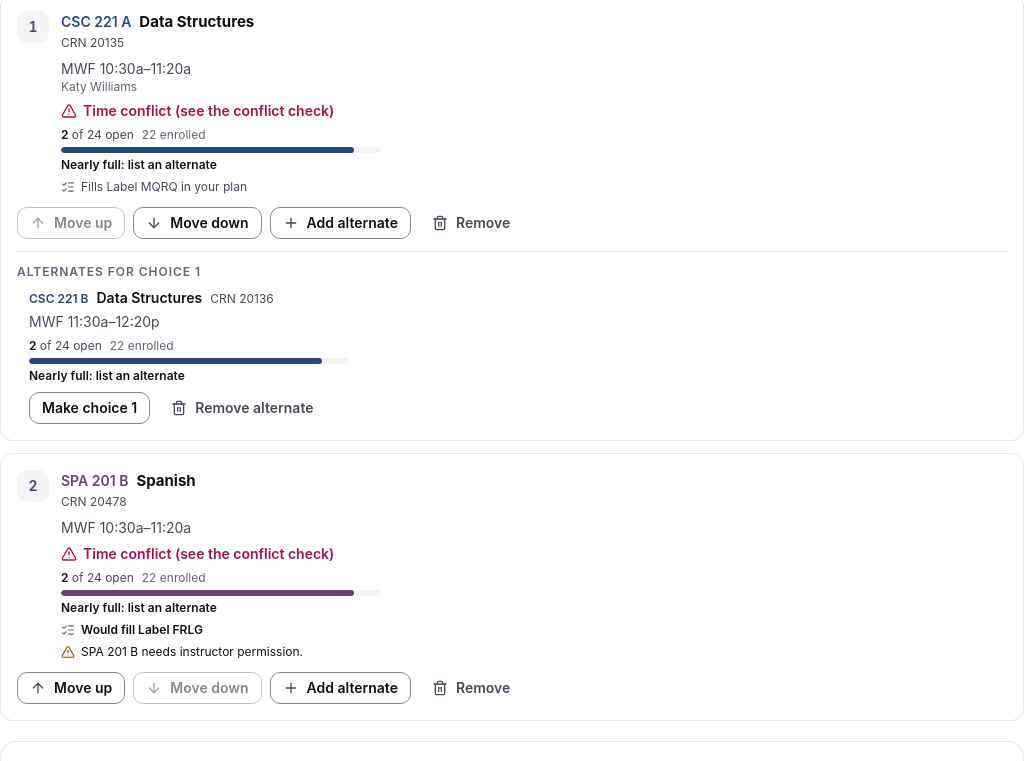
Test case: WebTreeEditor › 'Add alternate' targets that choice and focuses the search
Click the button named "Add alternate for SPA 201 B" at point(340, 688), box x1=270 y1=672 x2=411 y2=704
(page scrolled)
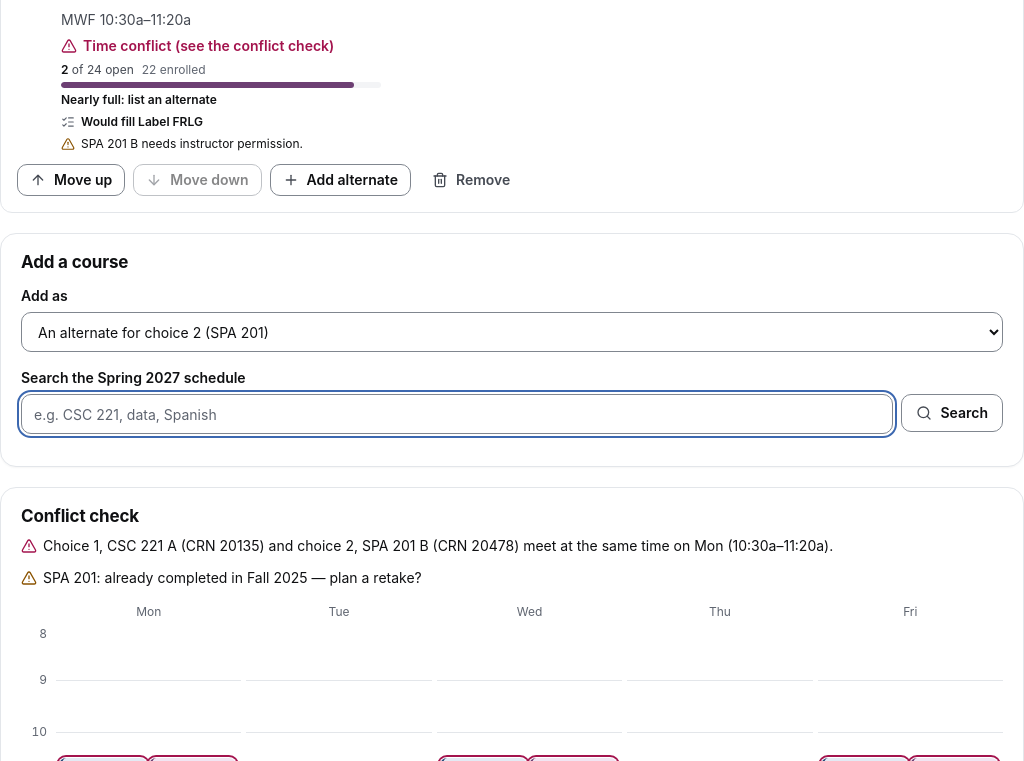
Check: the dropdown labelled "Add as" shows "An alternate for choice 2 (SPA 201)", box x1=21 y1=312 x2=1003 y2=352
